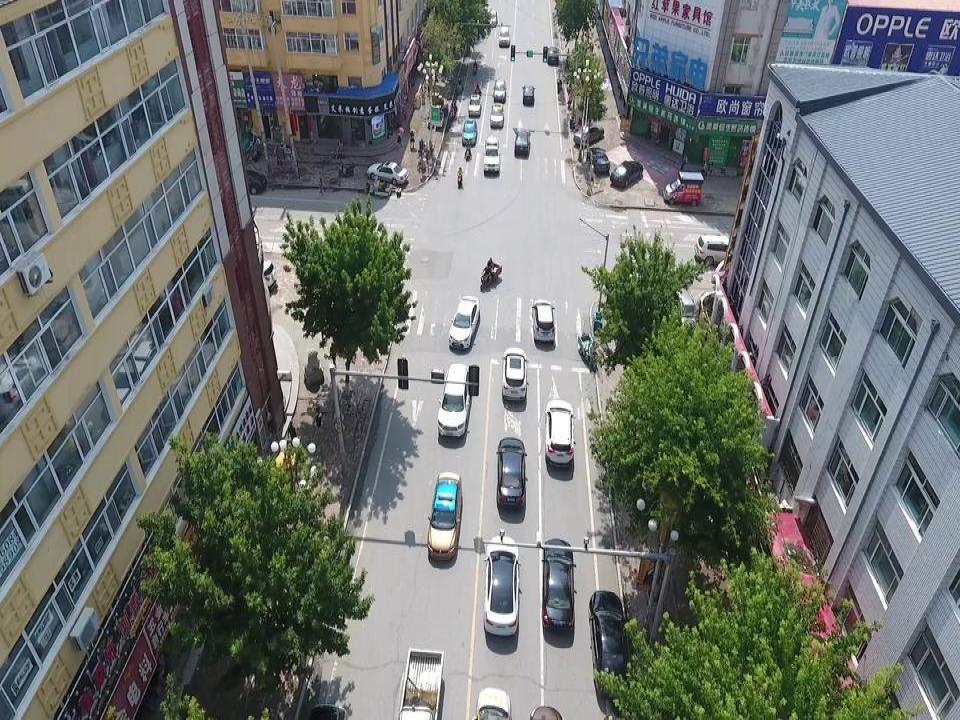car: (587, 589, 631, 699), (483, 536, 521, 636), (541, 539, 576, 632), (427, 471, 462, 560), (436, 363, 471, 437), (496, 437, 528, 511), (544, 400, 574, 467), (448, 295, 480, 349), (694, 233, 739, 268), (472, 684, 514, 720), (501, 347, 528, 402), (242, 257, 279, 296), (531, 298, 556, 342), (366, 160, 409, 185), (609, 160, 643, 187), (232, 169, 267, 195), (573, 124, 604, 145), (588, 147, 611, 173), (461, 119, 477, 146), (514, 129, 529, 156), (489, 103, 504, 129), (467, 94, 482, 118), (498, 24, 511, 48), (493, 79, 507, 101), (521, 86, 535, 106), (546, 46, 559, 66), (487, 8, 498, 25)
truck: (397, 646, 445, 720)
van: (667, 283, 702, 333), (662, 169, 703, 207), (483, 136, 500, 172)
